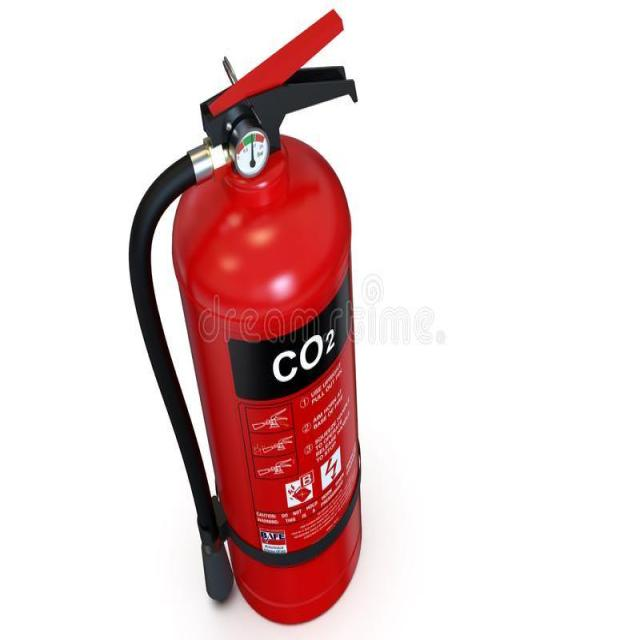fire_extinguisher: (126, 4, 364, 628)
